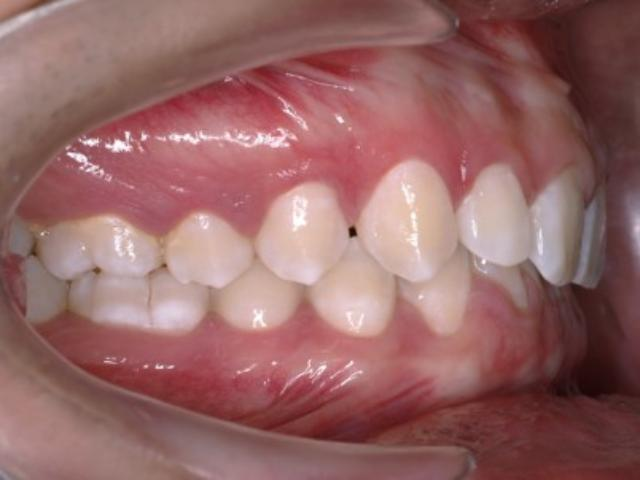canine class II 1/4: (308, 143, 474, 350)
molar class III 1/2: (30, 195, 214, 353)
